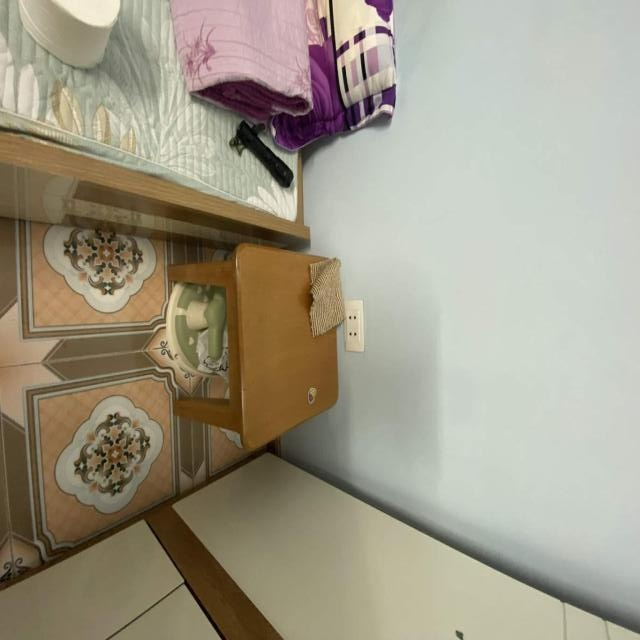outlet: (344, 299, 365, 352)
